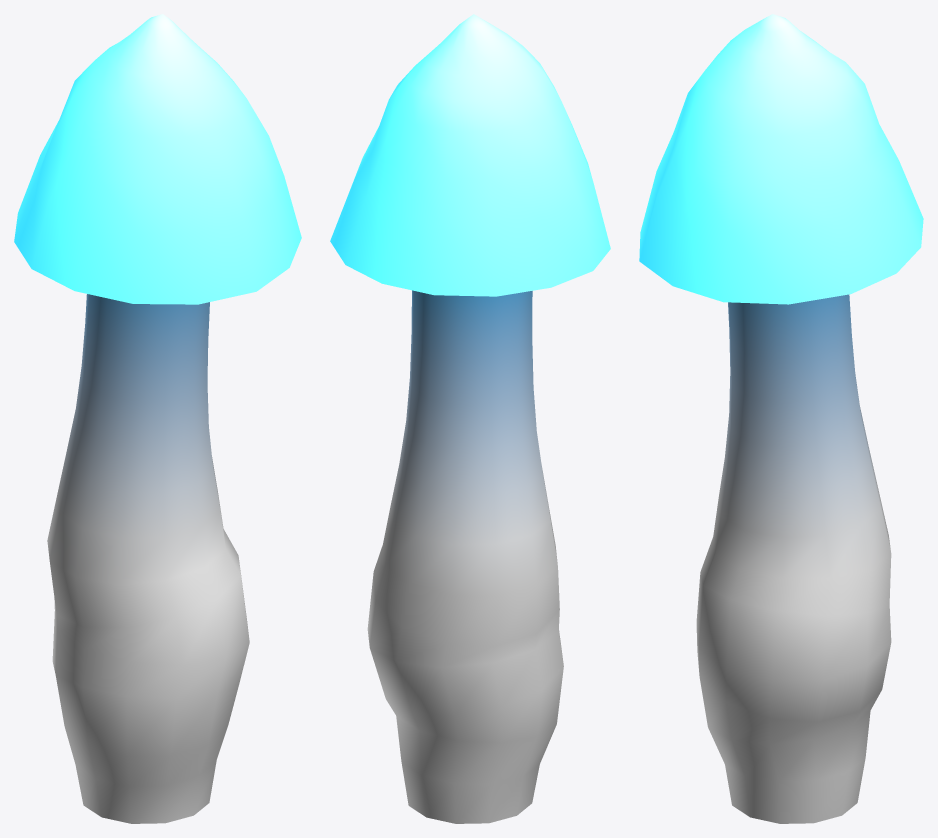
File: mushroom_1.glb
The picture shows the model from 3 angles, left to right: view 1: azimuth 30°, elevation 25°; view 2: azimuth 150°, elevation 25°; view 3: azimuth 270°, elevation 25°; orthographic projection.
Visible parts, largest first — view 1: geo1; view 2: geo1; view 3: geo1.
Boxes of the visible parts, box(x1,y1,x2,y2) form: geo1: box(14, 14, 301, 823); geo1: box(330, 14, 610, 823); geo1: box(639, 14, 923, 823).
Size of the model in its own units: 0.1414 by 0.4267 by 0.1398.
